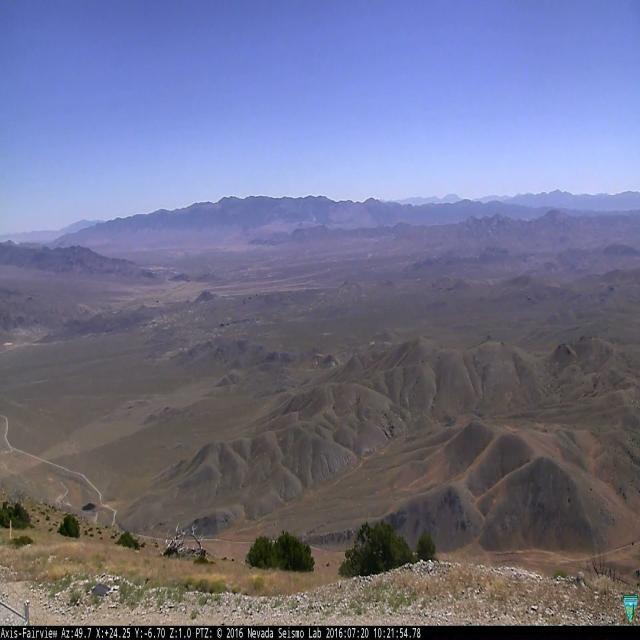smoke: (312, 217, 317, 224)
